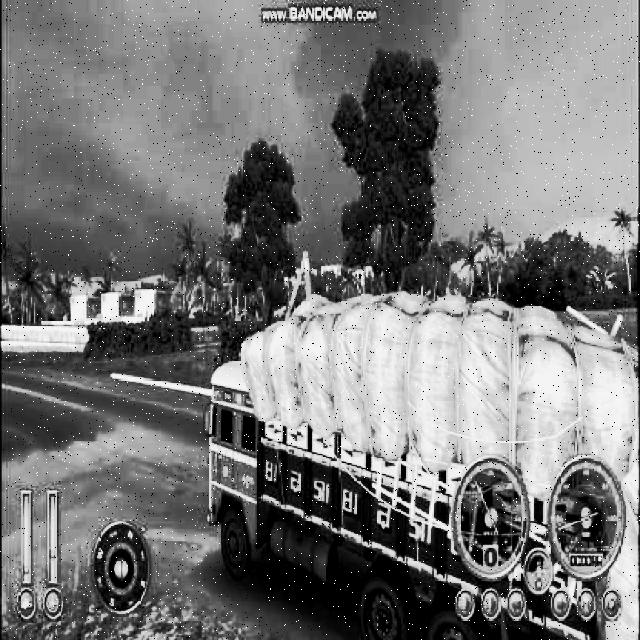HCV: (188, 303, 447, 619)
